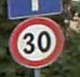limite 30: (7, 14, 64, 68)
